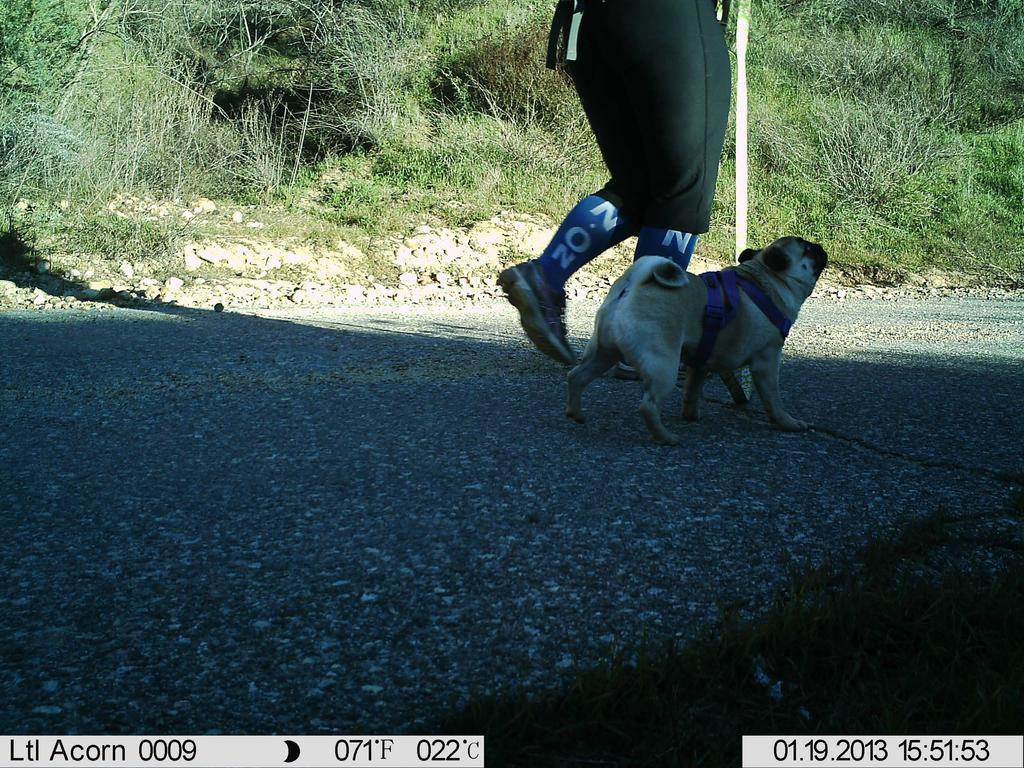dog: (566, 219, 831, 443)
